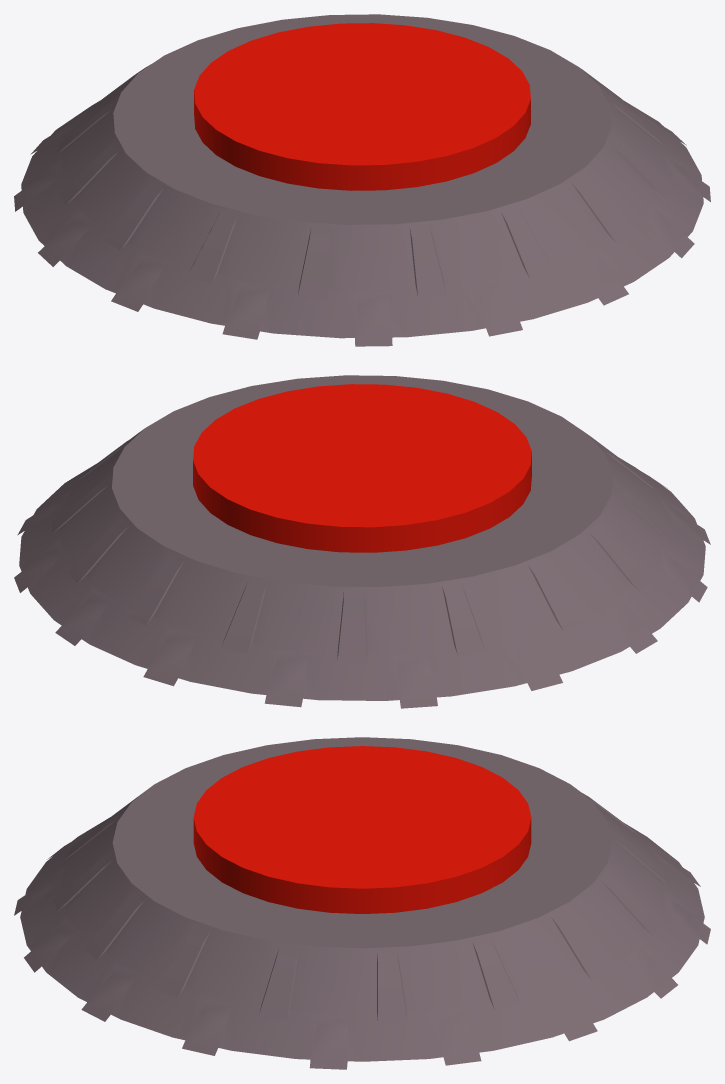
Rendered from LevelButton.fbx.
The picture shows the model from 3 angles, top to bottom: view 1: azimuth 30°, elevation 25°; view 2: azimuth 150°, elevation 25°; view 3: azimuth 270°, elevation 25°; orthographic projection.
Visible parts, largest first — view 1: Body, Button; view 2: Body, Button; view 3: Body, Button.
Boxes of the visible parts, bbox=[...] form: Body: bbox=[14, 14, 710, 346]; Button: bbox=[194, 23, 530, 190]; Body: bbox=[14, 375, 710, 708]; Button: bbox=[193, 384, 531, 552]; Body: bbox=[14, 737, 710, 1069]; Button: bbox=[193, 746, 531, 913].
Size of the model in its own units: 413 by 68.68 by 413.
